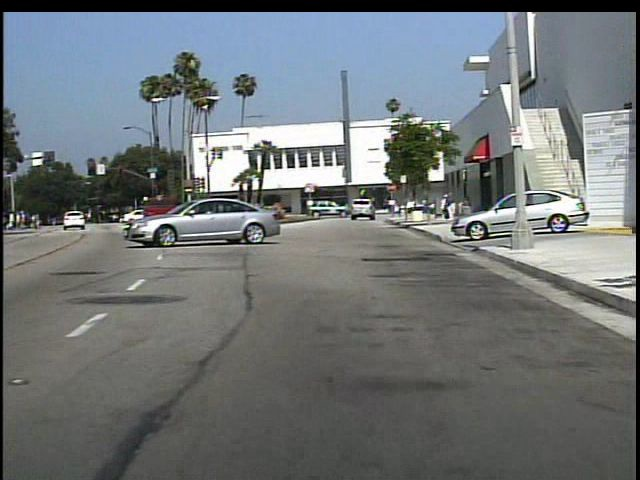person: (446, 189, 460, 225), (440, 193, 450, 222)
